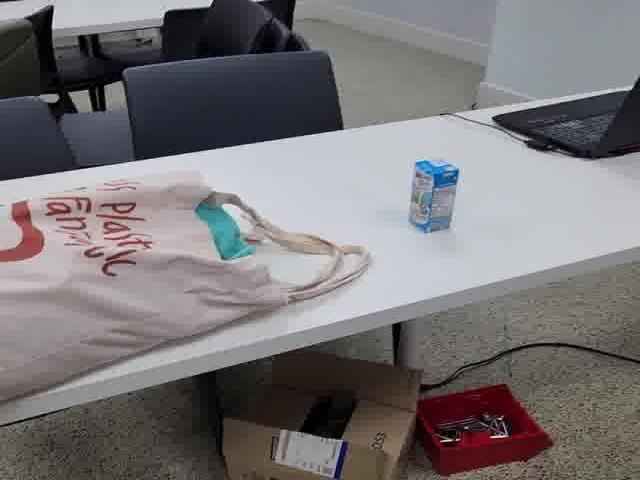drink_box: (404, 145, 468, 240)
